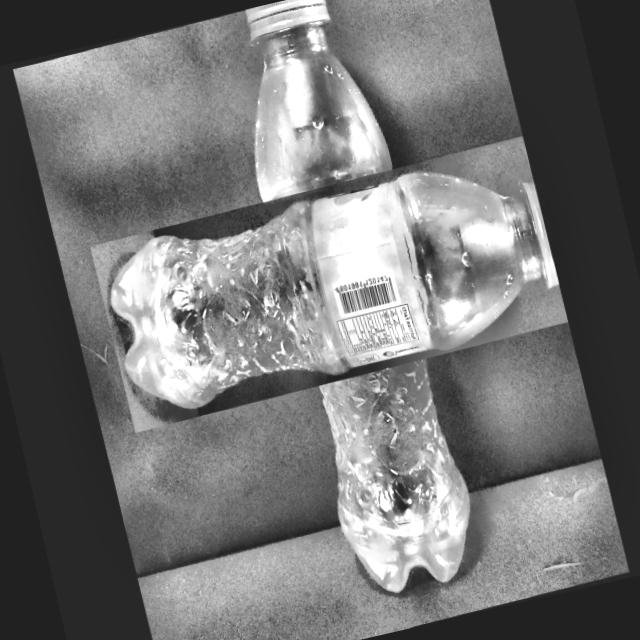Plastic-Bottle: (142, 32, 552, 522)
